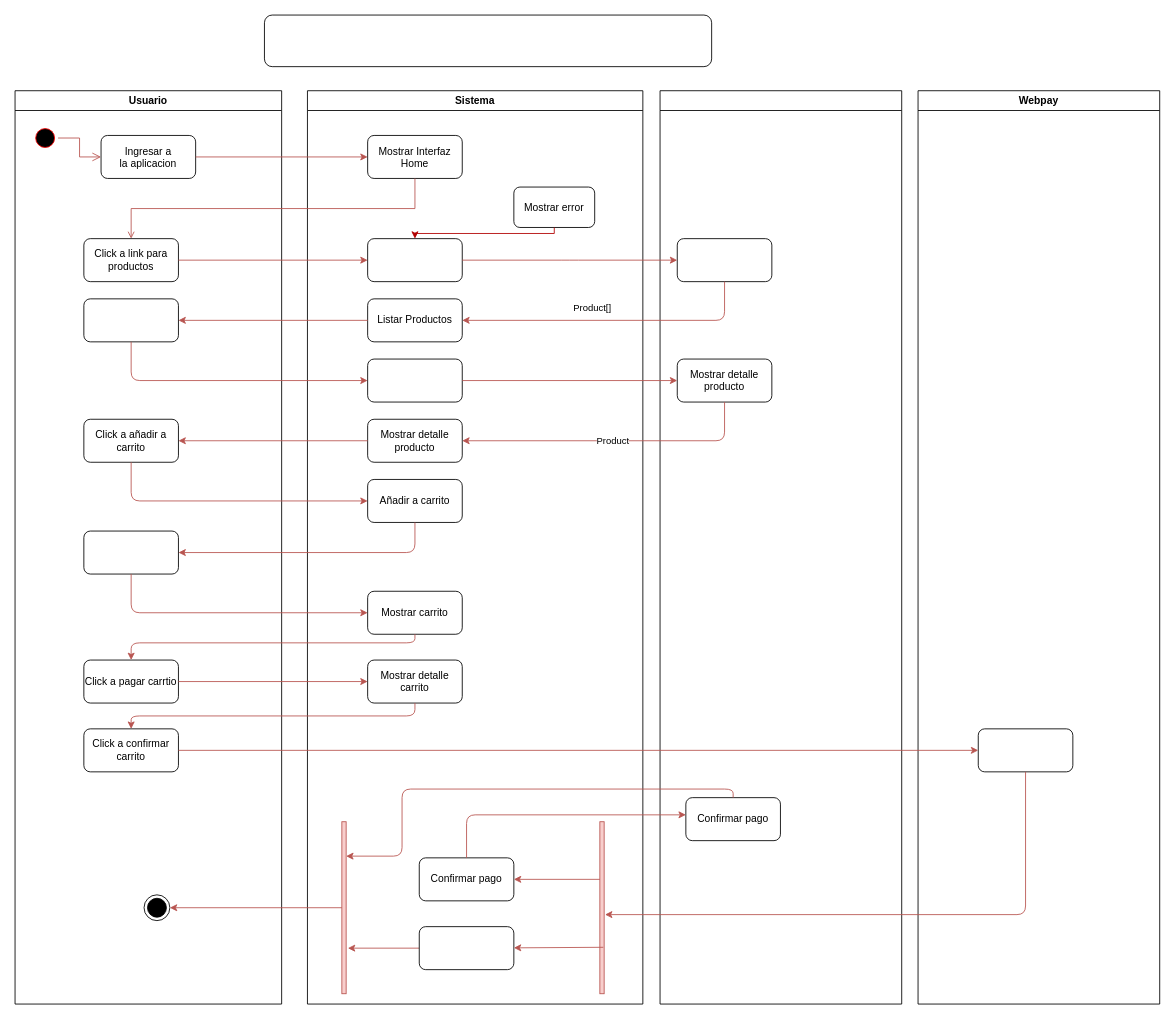
This 1175x1019 diagram has some shape labels left out. The shapes that lost their labels are listed below. From the top down, each one's box as (x1, y1, x2, y2) in pixels, then its label:
(264, 14, 712, 67): Compra de Producto
(367, 238, 462, 282): Mostrar pantalla productos
(676, 238, 772, 282): Acceder Productos
(83, 298, 178, 342): Click a producto
(367, 358, 462, 402): Mostrar pantalla producto
(83, 530, 178, 574): Click a carrito
(659, 90, 902, 1004): Base de Datos
(977, 728, 1073, 772): Gestión de pago online
(418, 926, 514, 970): Mostrar pantalla pago confirmado
